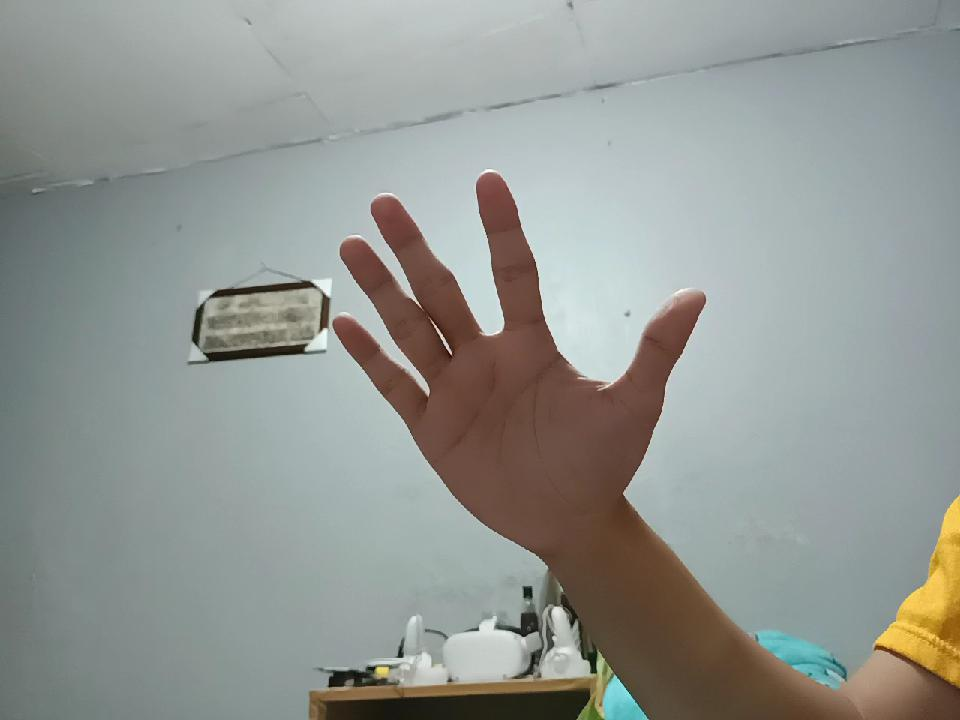paper: (329, 175, 679, 551)
